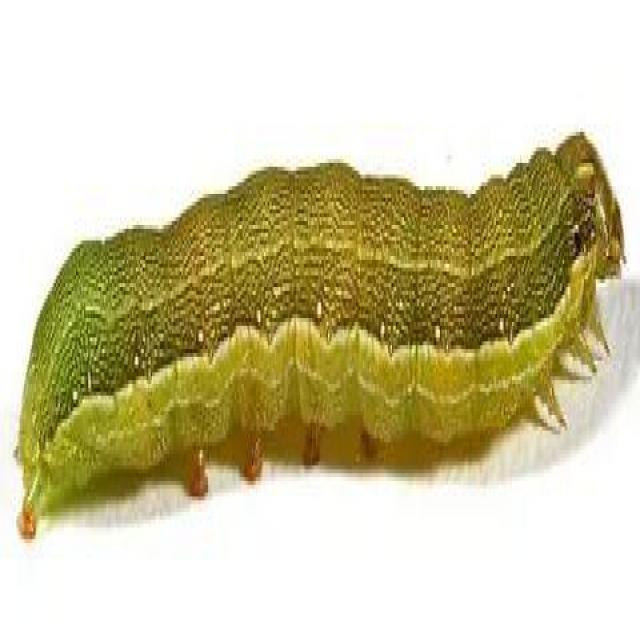BeetArmyWorm-Larva-: (18, 116, 631, 544)
